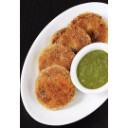cutlet: (34, 67, 76, 109), (72, 9, 109, 43), (37, 43, 73, 76), (54, 25, 90, 52)
